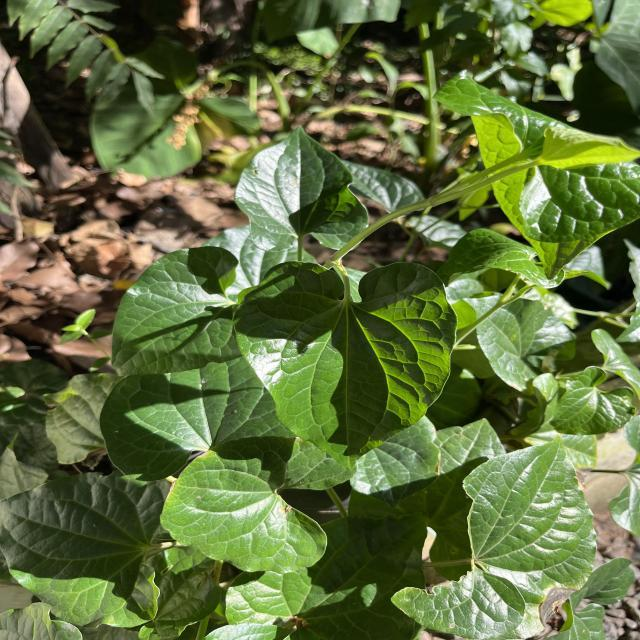Piper longum: (230, 258, 460, 474), (156, 434, 330, 575)
